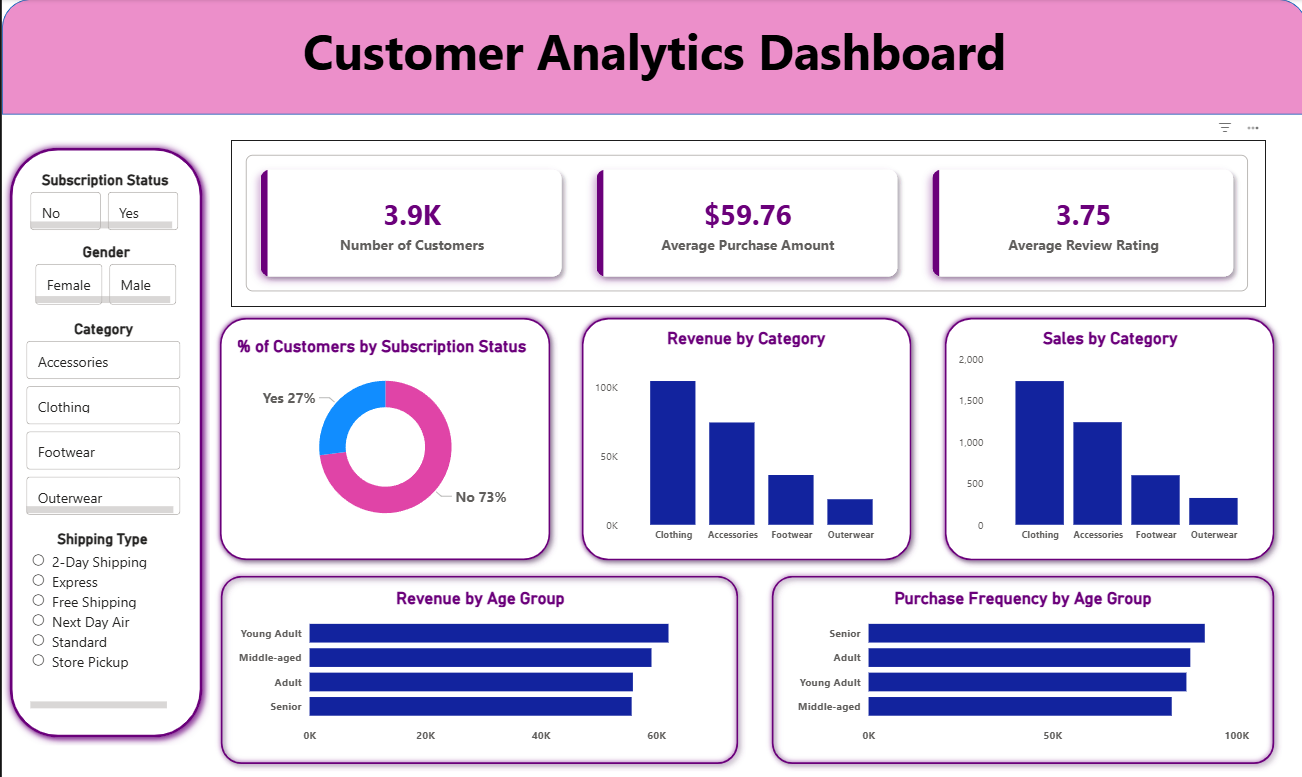

The dashboard page shown, as its layout file describes it:
{"tool":"powerbi","page":{"name":"Dashboard","canvas":[1500,900],"ordinal":0},"visuals":[{"type":"cardVisual","fields":{"Data":["public customer.Number of Customers","public customer.Average Purchase Amount","public customer.Average Review Rating"]},"box":[263.6,162.3,1188.8,191.6],"z":0},{"type":"shape","box":[0,0,1500,133],"z":1000},{"type":"textbox","box":[0,15.9,1500,100.1],"z":2000},{"type":"shape","box":[241.7,357.6,397.9,296.6],"z":3000},{"type":"donutChart","title":"% of Customers by Subscription Status ","fields":{"Category":["public customer.subscription_status"],"Y":["CountNonNull(public customer.customer_id)"]},"box":[266.1,386.9,350.3,233.1],"z":4000},{"type":"shape","box":[657.3,357.1,396.8,296.8],"z":5000},{"type":"shape","box":[1075,357.1,396.8,296.8],"z":6000},{"type":"clusteredColumnChart","title":"Revenue by Category","fields":{"Y":["Sum(public customer.purchase_amount)"],"Category":["public customer.category"]},"box":[676.1,377.9,359.3,255.2],"z":7000},{"type":"clusteredColumnChart","title":"Sales by Category","fields":{"Y":["CountNonNull(public customer.purchase_amount)"],"Category":["public customer.category"]},"box":[1093.7,377.9,359.3,255.2],"z":8000},{"type":"shape","box":[0,162.3,239.2,695.7],"z":9000},{"type":"advancedSlicerVisual","fields":{"Values":["public customer.subscription_status"]},"box":[28.1,197.7,181.9,73.2],"z":10000},{"type":"advancedSlicerVisual","fields":{"Values":["public customer.gender"]},"box":[33,280.7,173.3,76.9],"z":11000},{"type":"advancedSlicerVisual","fields":{"Values":["public customer.category"]},"box":[23.2,368.6,188,231.9],"z":12000},{"type":"listSlicer","fields":{"Values":["public customer.shipping_type"]},"box":[28.1,610.3,175.8,213.6],"z":13000},{"type":"barChart","fields":{"Y":["Sum(public customer.purchase_amount)"],"Category":["public customer.age_group"]},"box":[266.1,677.4,568.8,188],"z":14000},{"type":"barChart","fields":{"Y":["Sum(public customer.purchase_frequency_days)"],"Category":["public customer.age_group"]},"box":[908.1,677.4,530.9,188],"z":15000},{"type":"shape","box":[242.9,654.2,612.7,234.3],"z":16000},{"type":"shape","box":[876.3,654.2,595.6,234.3],"z":17000}]}

Visuals, with their boxes in screenshot pixels (x1, y1, x2, y2), scaled from the page's 1500x900 canvas onto the 1302x777 screenshot:
cardVisual - public customer.Number of Customers x public customer.Average Purchase Amount: (x1=229, y1=140, x2=1261, y2=306)
shape: (x1=0, y1=0, x2=1301, y2=115)
textbox: (x1=0, y1=14, x2=1301, y2=100)
shape: (x1=210, y1=309, x2=555, y2=565)
"% of Customers by Subscription Status " donutChart: (x1=231, y1=334, x2=535, y2=535)
shape: (x1=571, y1=308, x2=915, y2=565)
shape: (x1=933, y1=308, x2=1278, y2=565)
"Revenue by Category" clusteredColumnChart: (x1=587, y1=326, x2=899, y2=547)
"Sales by Category" clusteredColumnChart: (x1=949, y1=326, x2=1261, y2=547)
shape: (x1=0, y1=140, x2=208, y2=741)
advancedSlicerVisual - public customer.subscription_status: (x1=24, y1=171, x2=182, y2=234)
advancedSlicerVisual - public customer.gender: (x1=29, y1=242, x2=179, y2=309)
advancedSlicerVisual - public customer.category: (x1=20, y1=318, x2=183, y2=518)
listSlicer - public customer.shipping_type: (x1=24, y1=527, x2=177, y2=711)
barChart - Sum(public customer.purchase_amount) x public customer.age_group: (x1=231, y1=585, x2=725, y2=747)
barChart - Sum(public customer.purchase_frequency_days) x public customer.age_group: (x1=788, y1=585, x2=1249, y2=747)
shape: (x1=211, y1=565, x2=743, y2=767)
shape: (x1=761, y1=565, x2=1278, y2=767)
